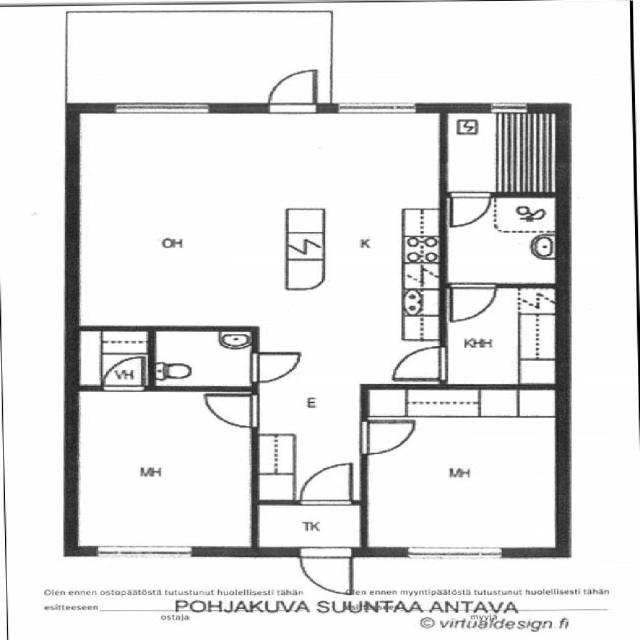door: (152, 329, 257, 389), (294, 545, 358, 598), (260, 64, 322, 115), (294, 460, 358, 508), (384, 340, 452, 384), (196, 388, 262, 431), (241, 346, 307, 386), (442, 281, 501, 324), (355, 418, 419, 457), (442, 189, 497, 230), (96, 356, 152, 394)
window: (99, 94, 221, 122), (398, 541, 514, 566), (327, 95, 429, 122), (84, 541, 201, 564), (478, 100, 534, 118)
zone: (60, 110, 393, 330), (362, 387, 564, 554), (70, 386, 260, 550), (442, 284, 564, 386), (442, 192, 562, 286), (443, 108, 563, 197), (152, 329, 256, 388), (255, 501, 368, 547), (70, 328, 154, 388)
